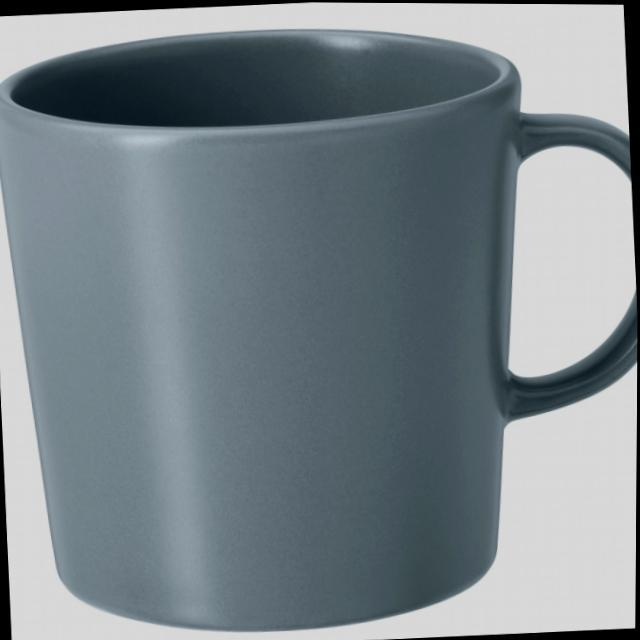cup: (0, 6, 640, 640)
